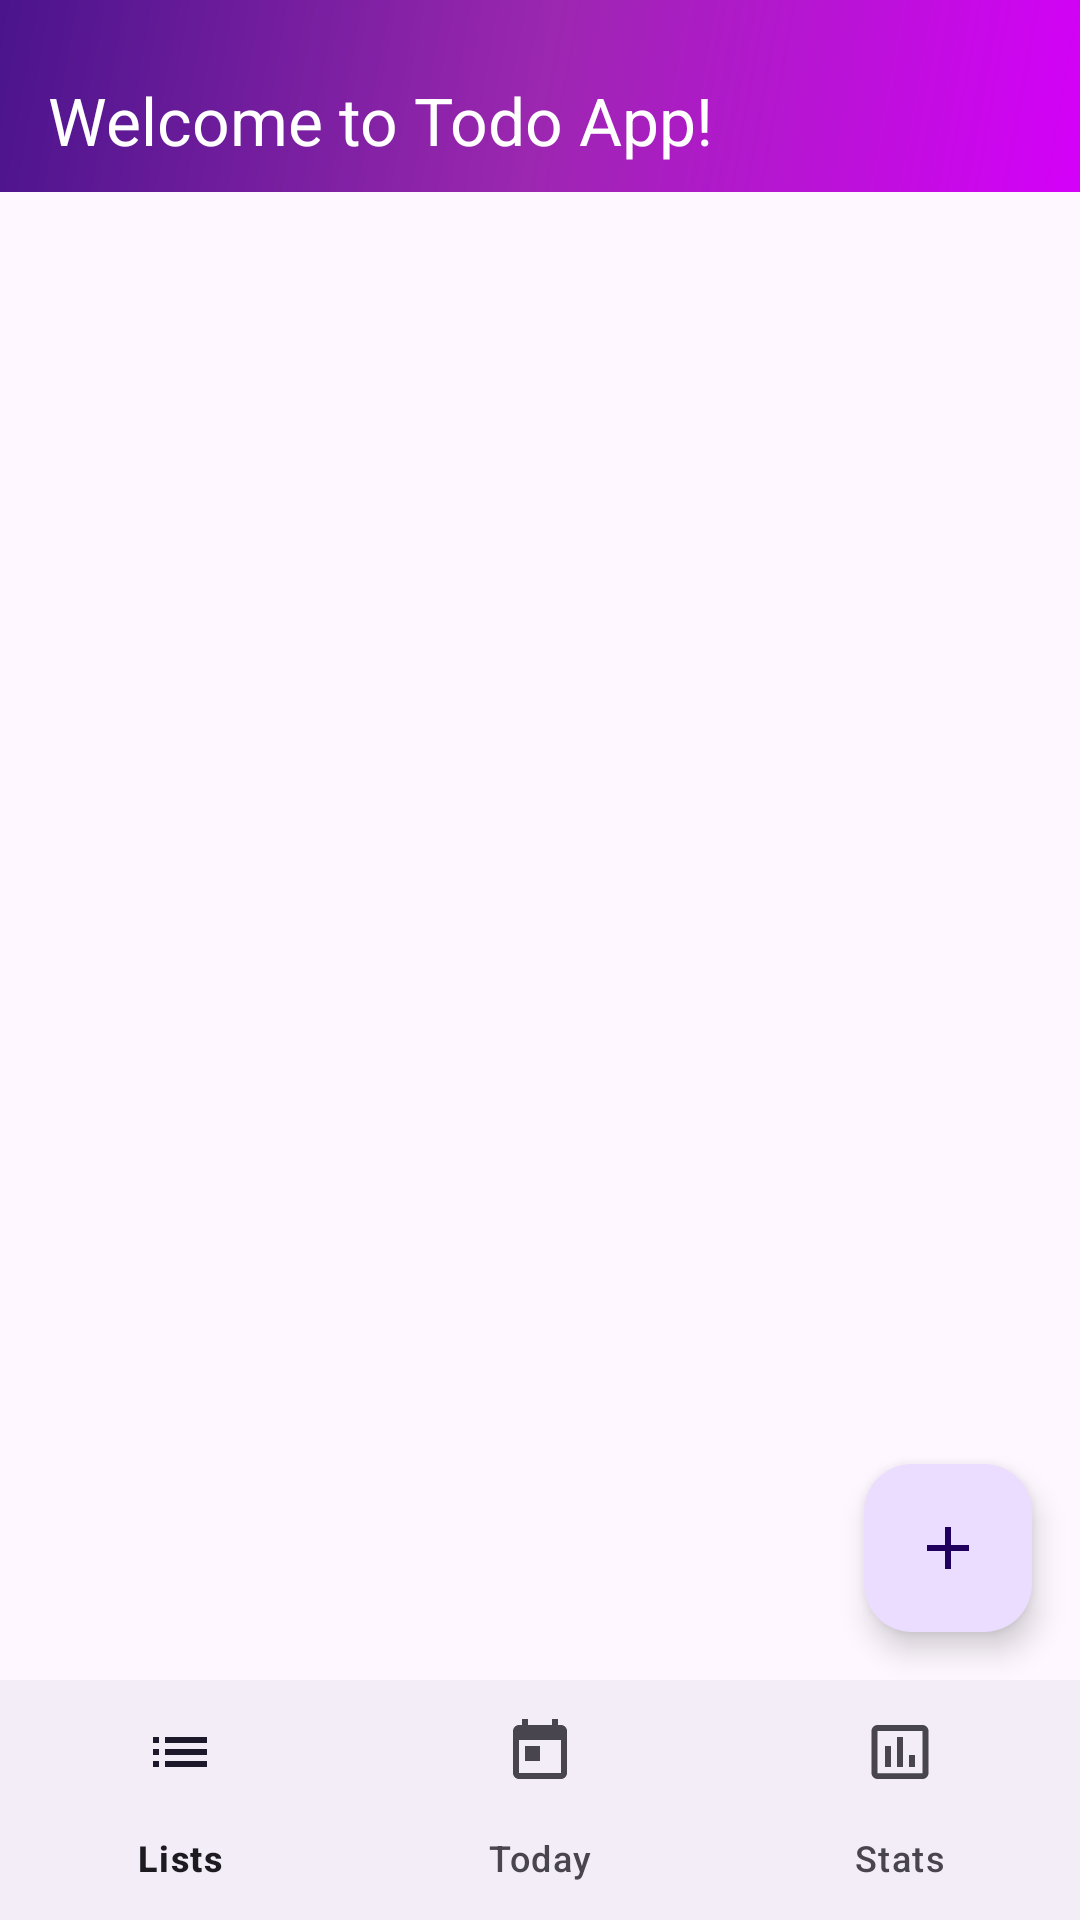

Icon bounding boxes for this 1080px×1920px phone screenshot, format (x1, y1, x2, y2):
add: (864, 1464, 1032, 1632)
